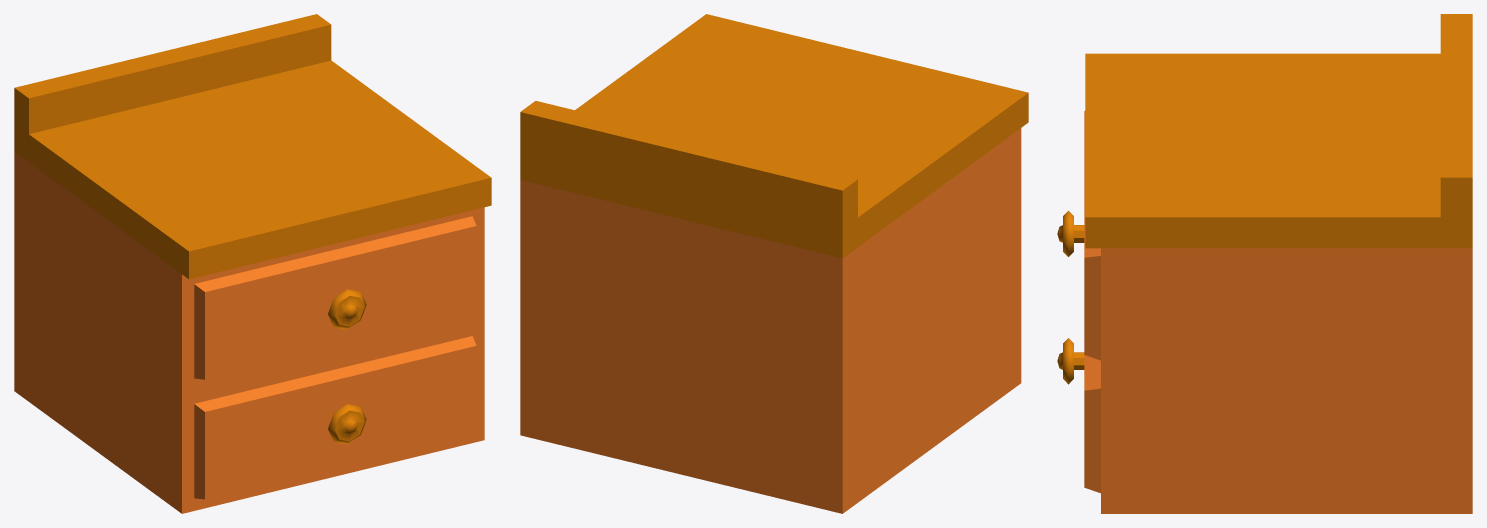
The model's file is Countertop-03.FBX.
3 views of the same model, side by side, from view 1: azimuth 30°, elevation 25°; view 2: azimuth 150°, elevation 25°; view 3: azimuth 270°, elevation 25° (orthographic). The views are drawn at different scales.
Visible parts, largest first — view 1: base001, top001, knob-003, knob-005; view 2: base001, top001; view 3: base001, top001, knob-003, knob-005.
Part boxes in pixels (box(x1,y1,x2,y2)): base001: box(14, 152, 484, 513); top001: box(14, 14, 491, 279); knob-003: box(328, 289, 366, 329); knob-005: box(328, 404, 366, 444); base001: box(520, 128, 1021, 513); top001: box(520, 14, 1028, 258); base001: box(1084, 111, 1472, 513); top001: box(1085, 14, 1472, 248); knob-003: box(1057, 211, 1084, 256); knob-005: box(1057, 338, 1084, 384).
Bounding box in the file's own units: 50 × 47.92 × 53.63.
